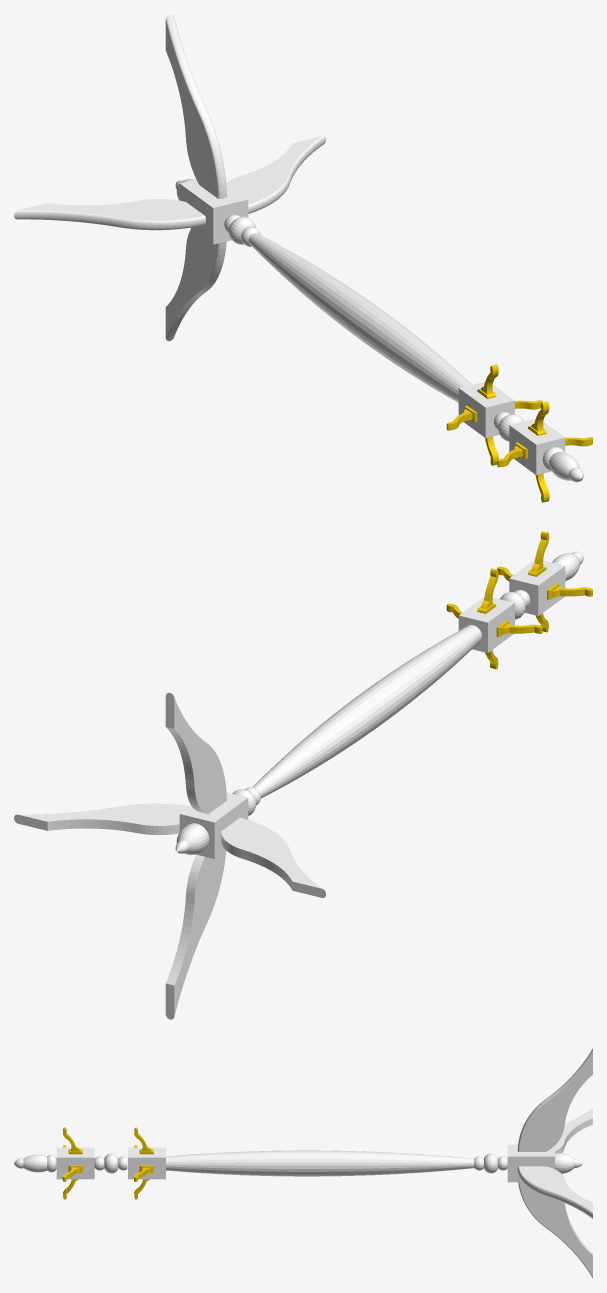
3 views of the same model, one above another, from view 1: azimuth 30°, elevation 25°; view 2: azimuth 150°, elevation 25°; view 3: azimuth 270°, elevation 25° (orthographic). The views are drawn at different scales.
Visible parts, largest first — view 1: coat rack; view 2: coat rack; view 3: coat rack.
Boxes of the visible parts, box(x1,y1,x2,y2) form: coat rack: box(14, 14, 592, 502); coat rack: box(14, 531, 592, 1019); coat rack: box(14, 1048, 592, 1278).
Size of the model in its own units: 26.75 by 26.75 by 61.
